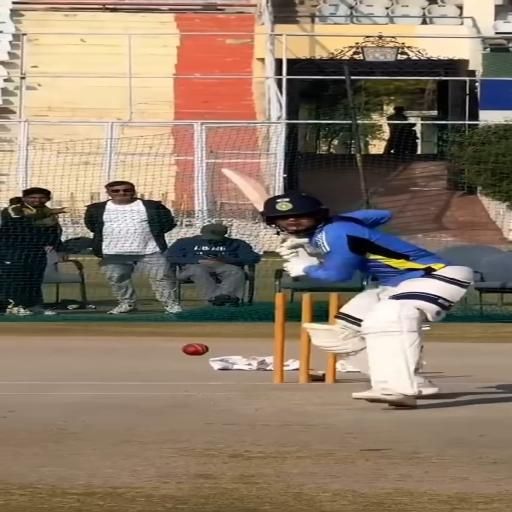Cricket bat: (221, 168, 269, 212)
